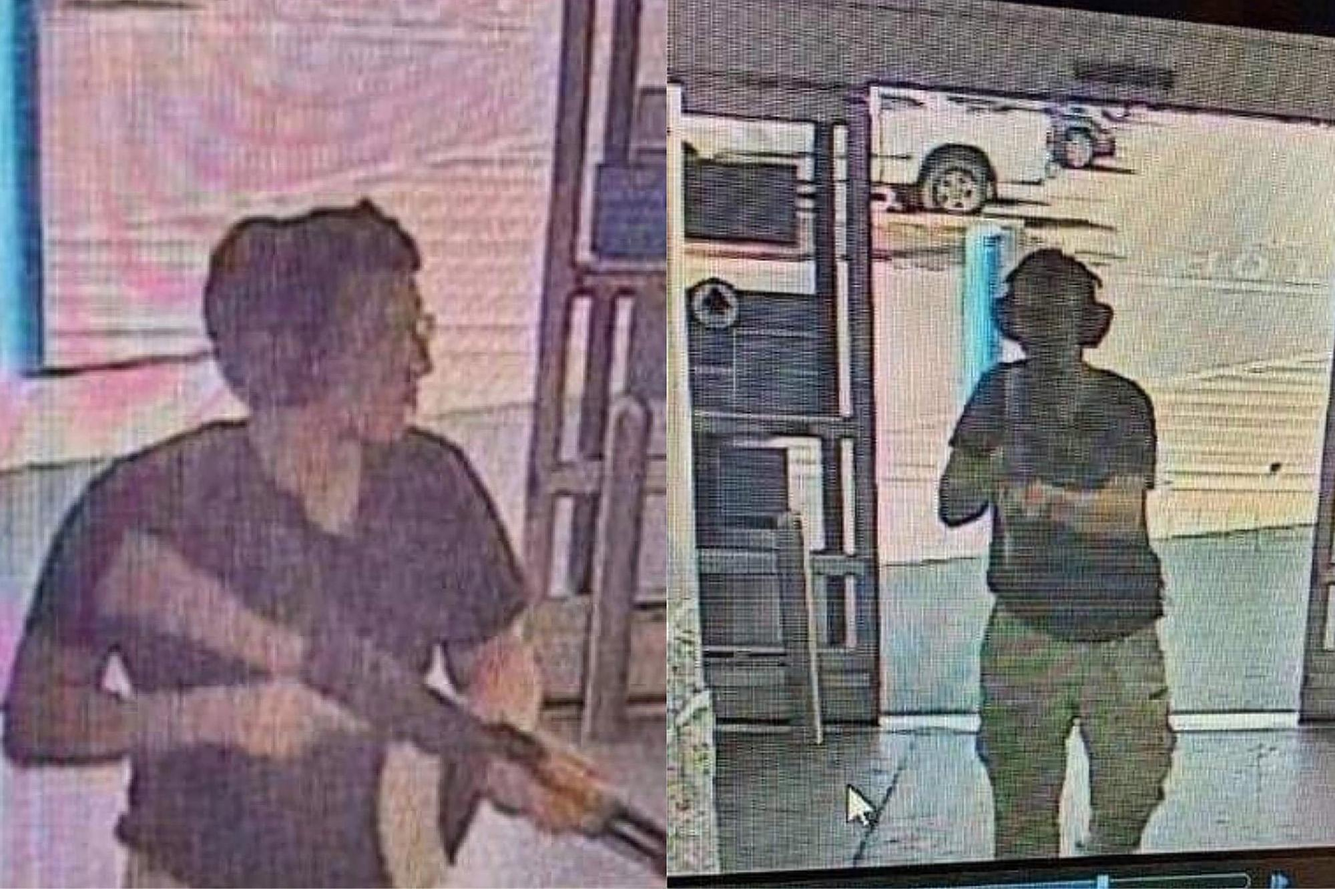rifle: (85, 518, 661, 889)
